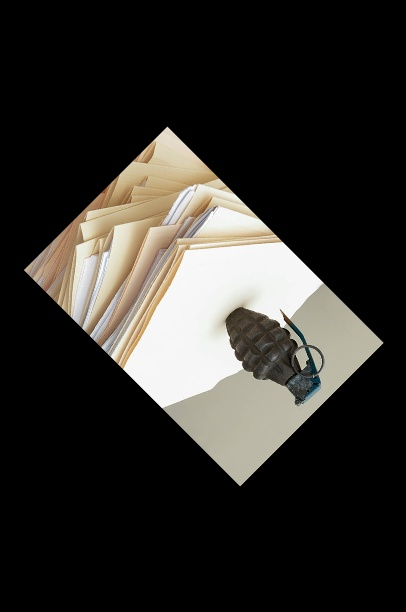e1: (220, 298, 329, 407)
